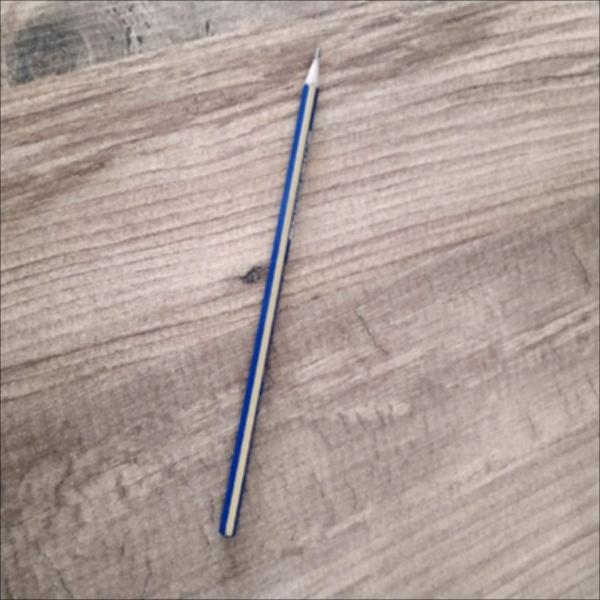pencil: (211, 45, 335, 546)
